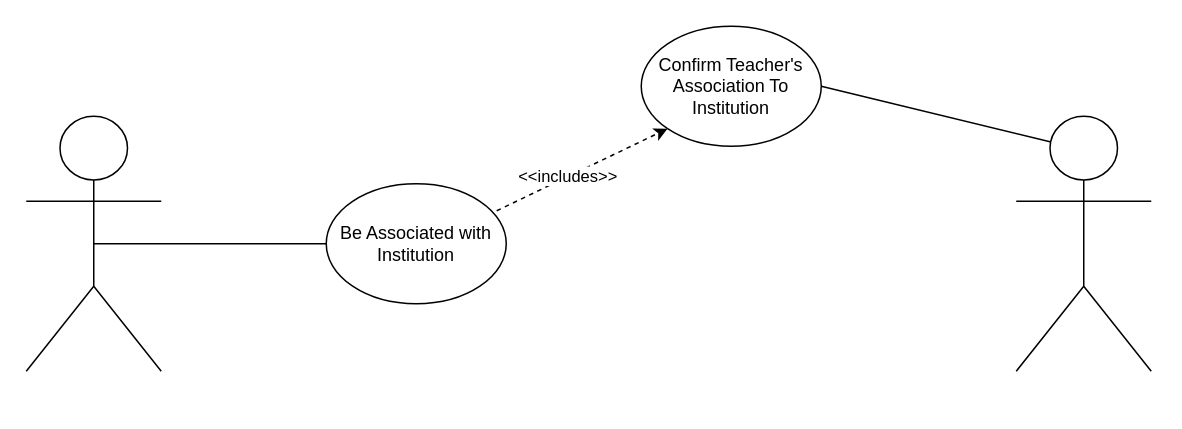
Image size: 1182x429. Some labels were removed from this diagram. Each missing label, with the box of its shape:
Institution's Admin: (1015, 115, 1151, 371)
Teacher: (25, 115, 161, 371)
